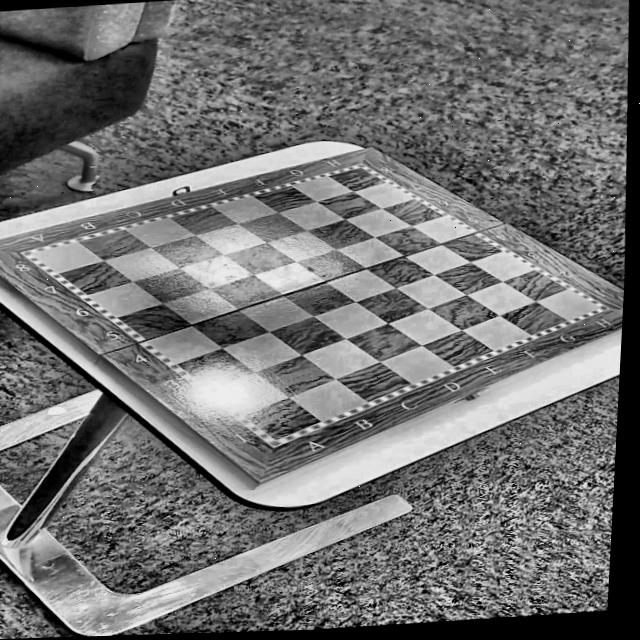chessboard: (31, 167, 600, 439)
